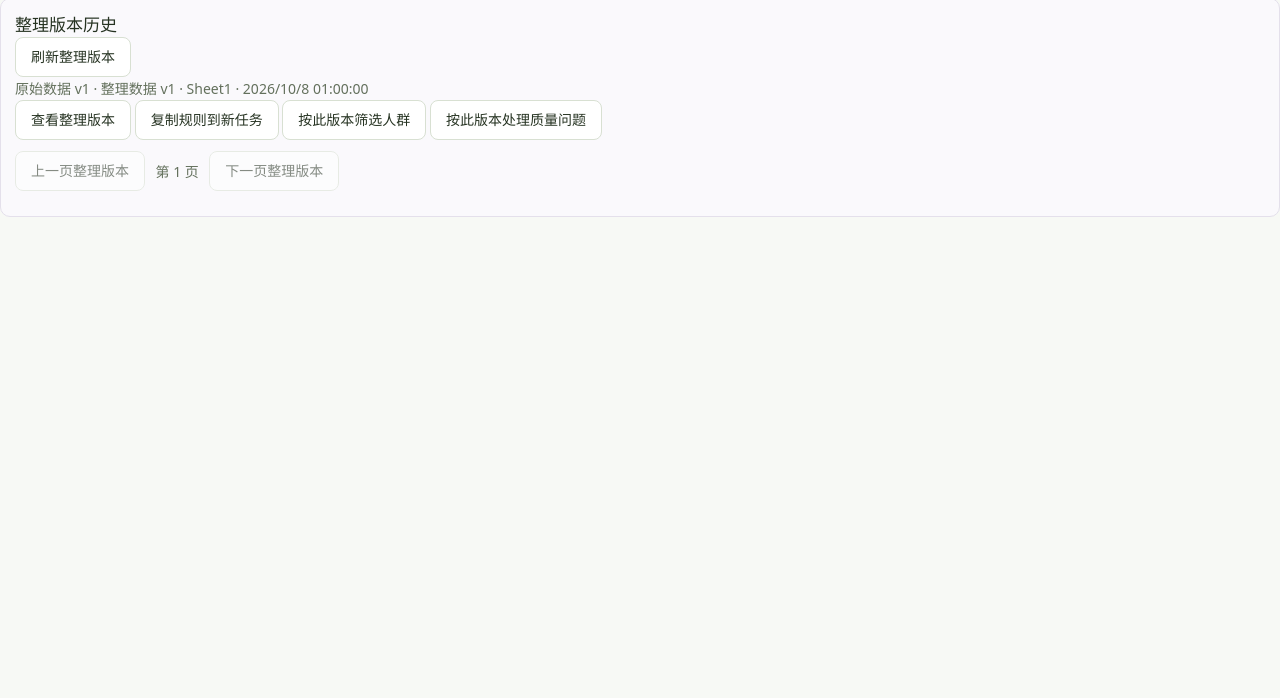
history allows a fresh quality draft from the same parent after publication
Click the button "按此版本处理质量问题".
click(516, 120)  # box 430,100 -> 602,140
(page scrolled)
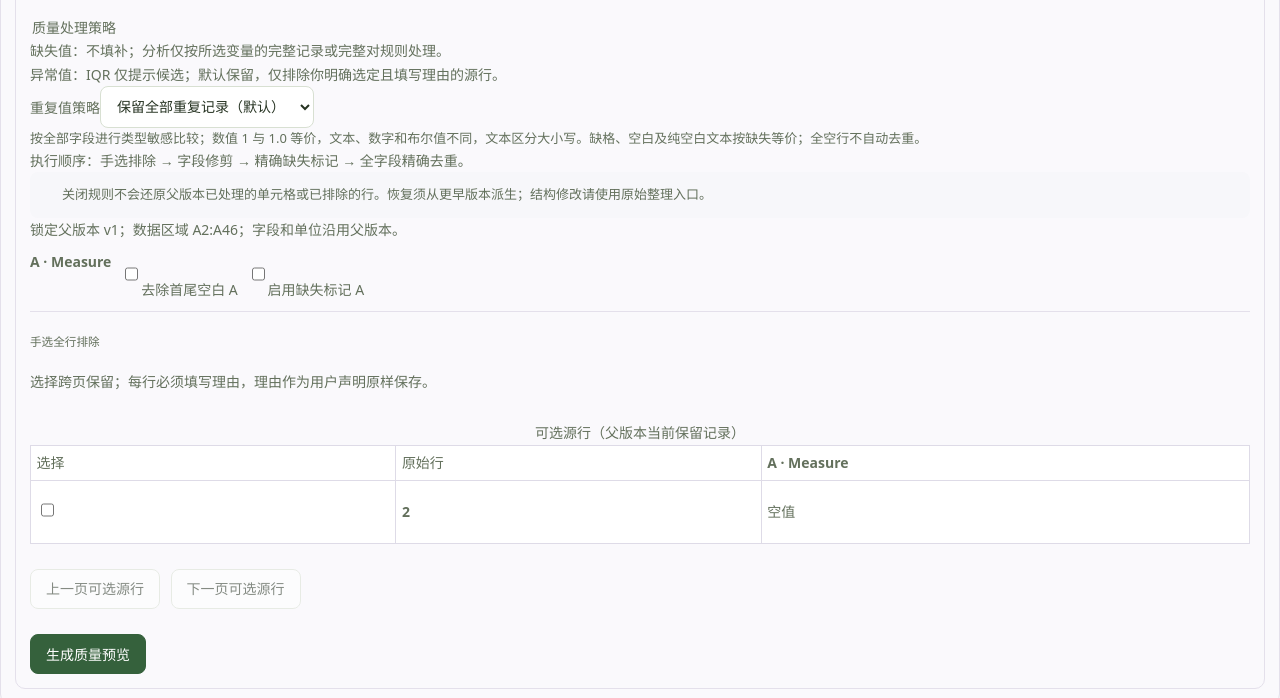
Click the button "生成质量预览".
click(88, 654)  # box 30,634 -> 146,674
(page scrolled)
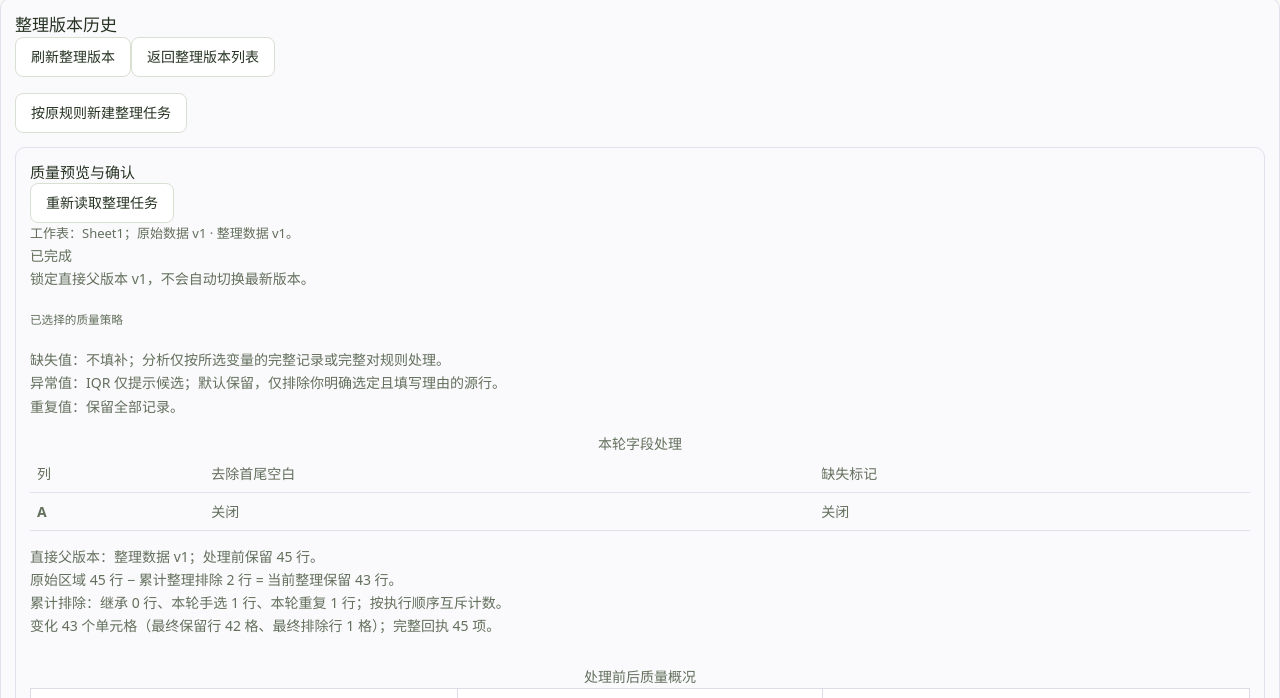
Click the button "按原规则新建整理任务".
click(101, 113)  # box 15,93 -> 187,133
(page scrolled)
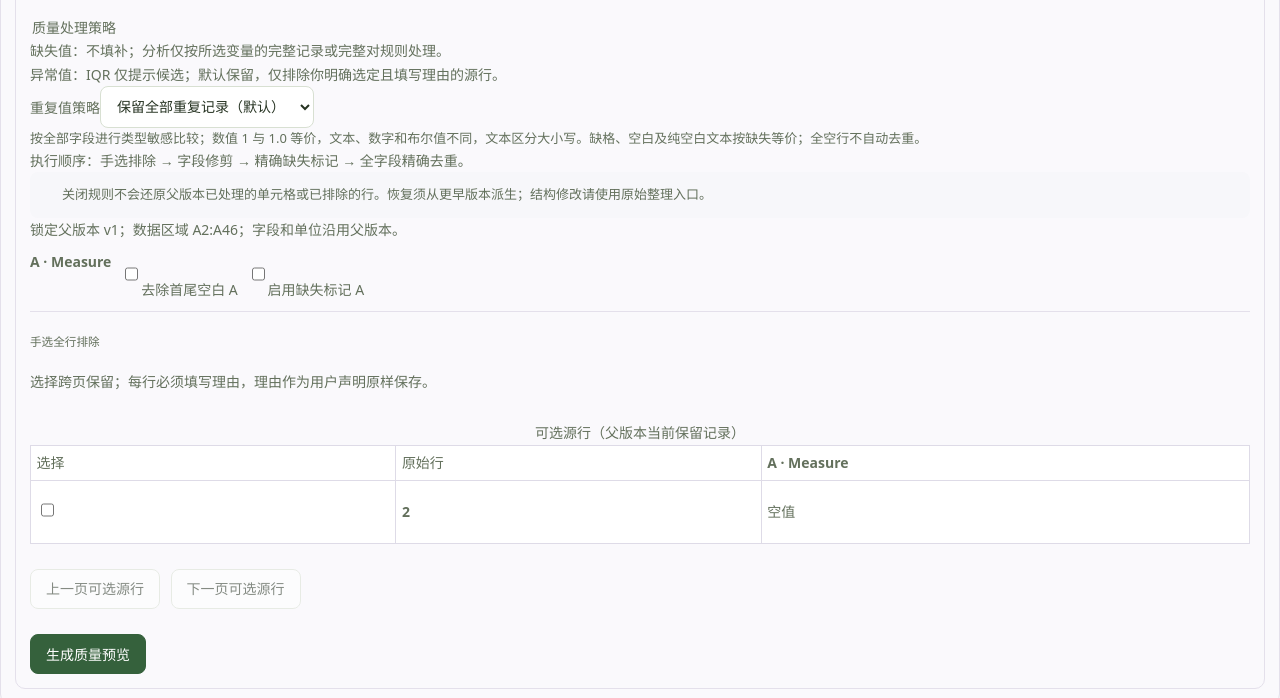
Now the button "生成质量预览" is shown, box 30,634 -> 146,674
